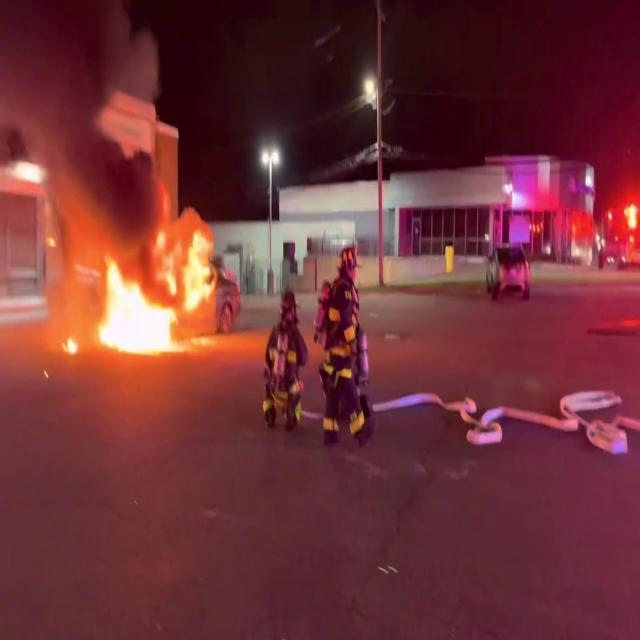Fire: (66, 212, 211, 358)
Smoke: (0, 0, 176, 235)
